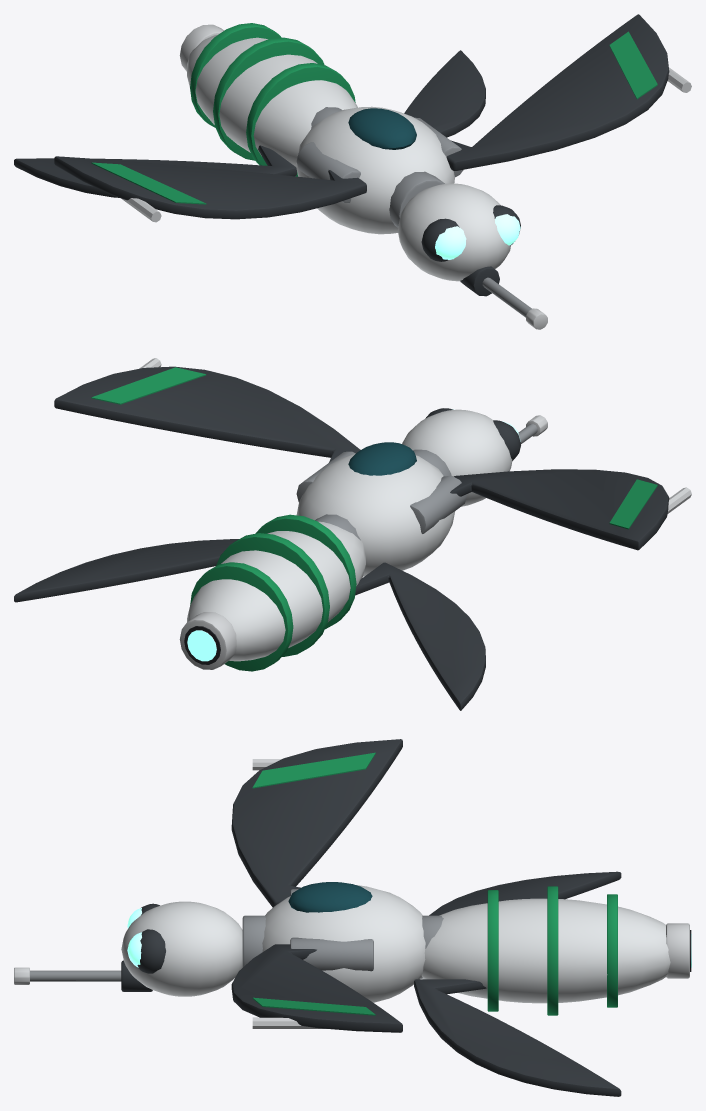
Rendered from wasp.glb.
The picture shows the model from 3 angles, top to bottom: view 1: azimuth 30°, elevation 25°; view 2: azimuth 150°, elevation 25°; view 3: azimuth 270°, elevation 25°; orthographic projection.
Visible parts, largest first — view 1: wasp; view 2: wasp; view 3: wasp.
Part boxes in pixels (x1=…): wasp: x1=14, y1=14, x2=691, y2=329; wasp: x1=14, y1=358, x2=691, y2=710; wasp: x1=14, y1=739, x2=691, y2=1096.
Size of the model in its own units: 33.97 by 7.14 by 34.1.
